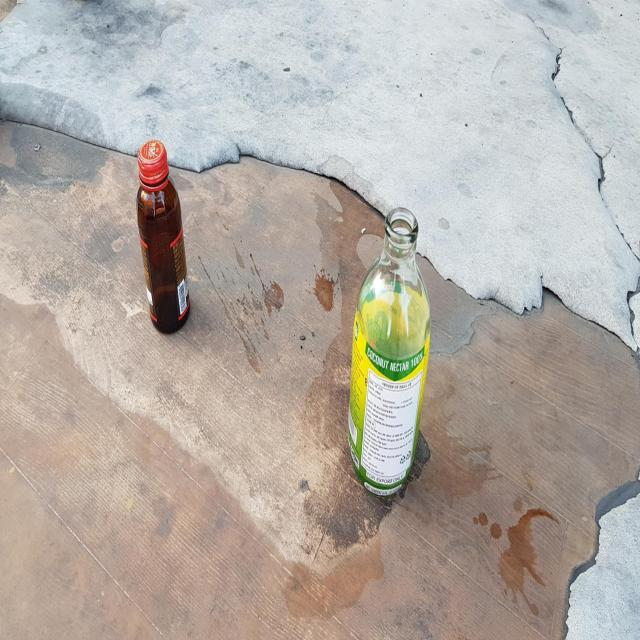glass: (348, 207, 431, 496), (136, 138, 189, 332)
